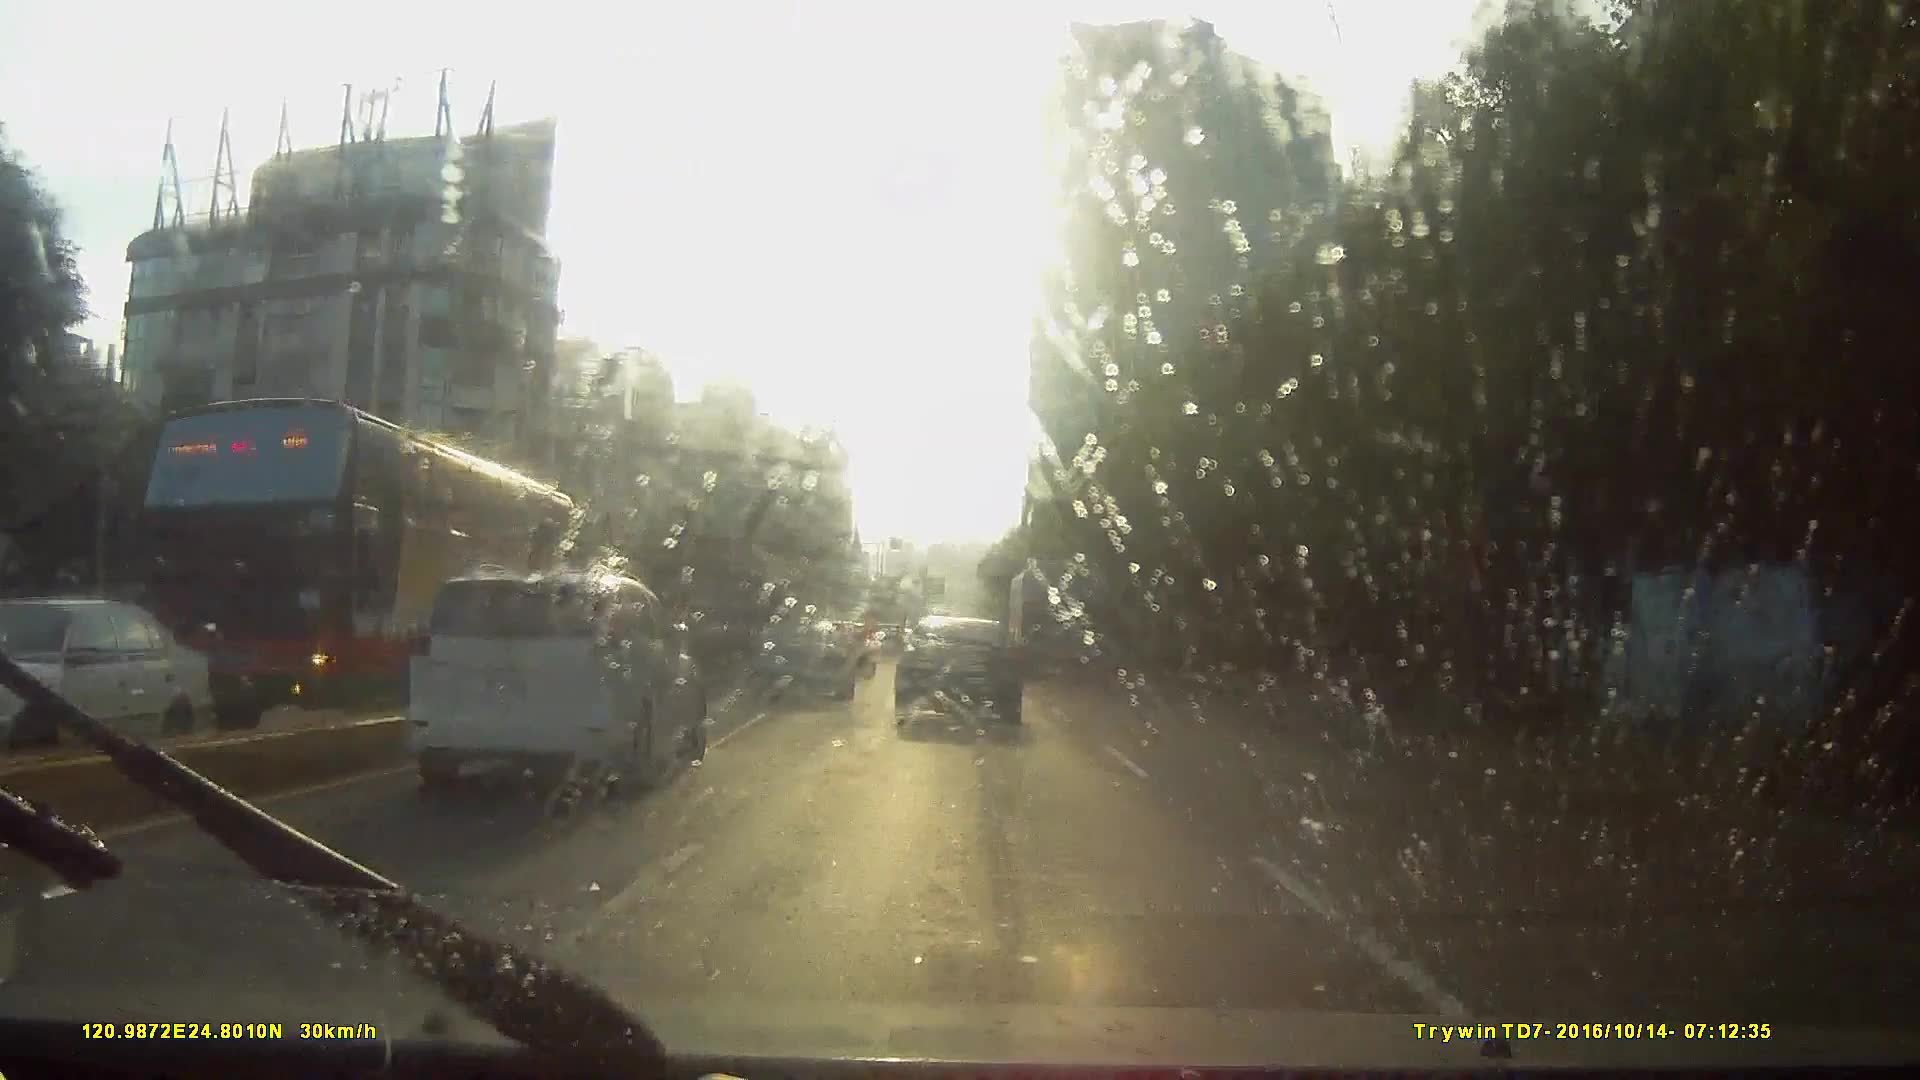vehicle: (100, 388, 615, 741), (251, 556, 684, 868), (407, 574, 708, 800), (0, 597, 166, 770), (894, 620, 1023, 740), (1006, 566, 1112, 692), (746, 628, 855, 715), (866, 638, 915, 687)
